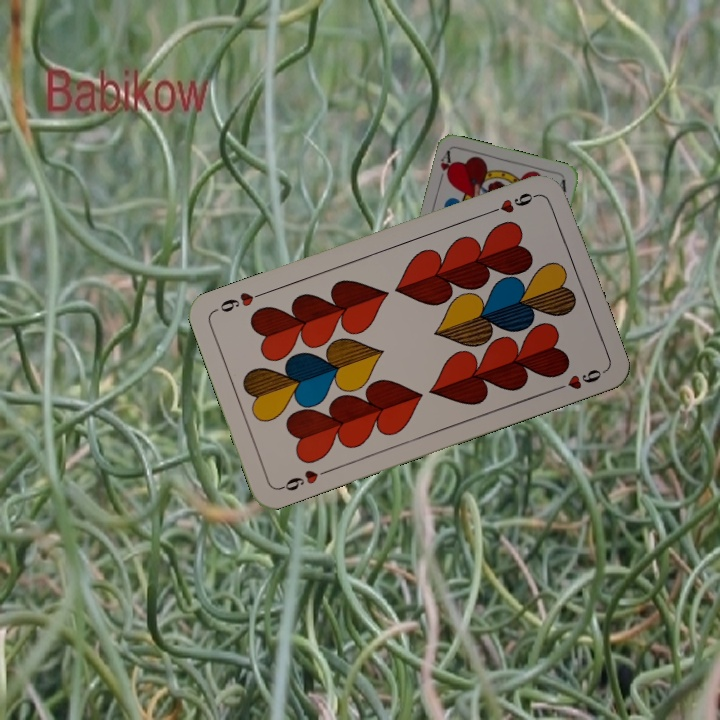H9: (275, 465, 332, 494), (484, 188, 541, 217)
HA: (435, 148, 455, 188)
